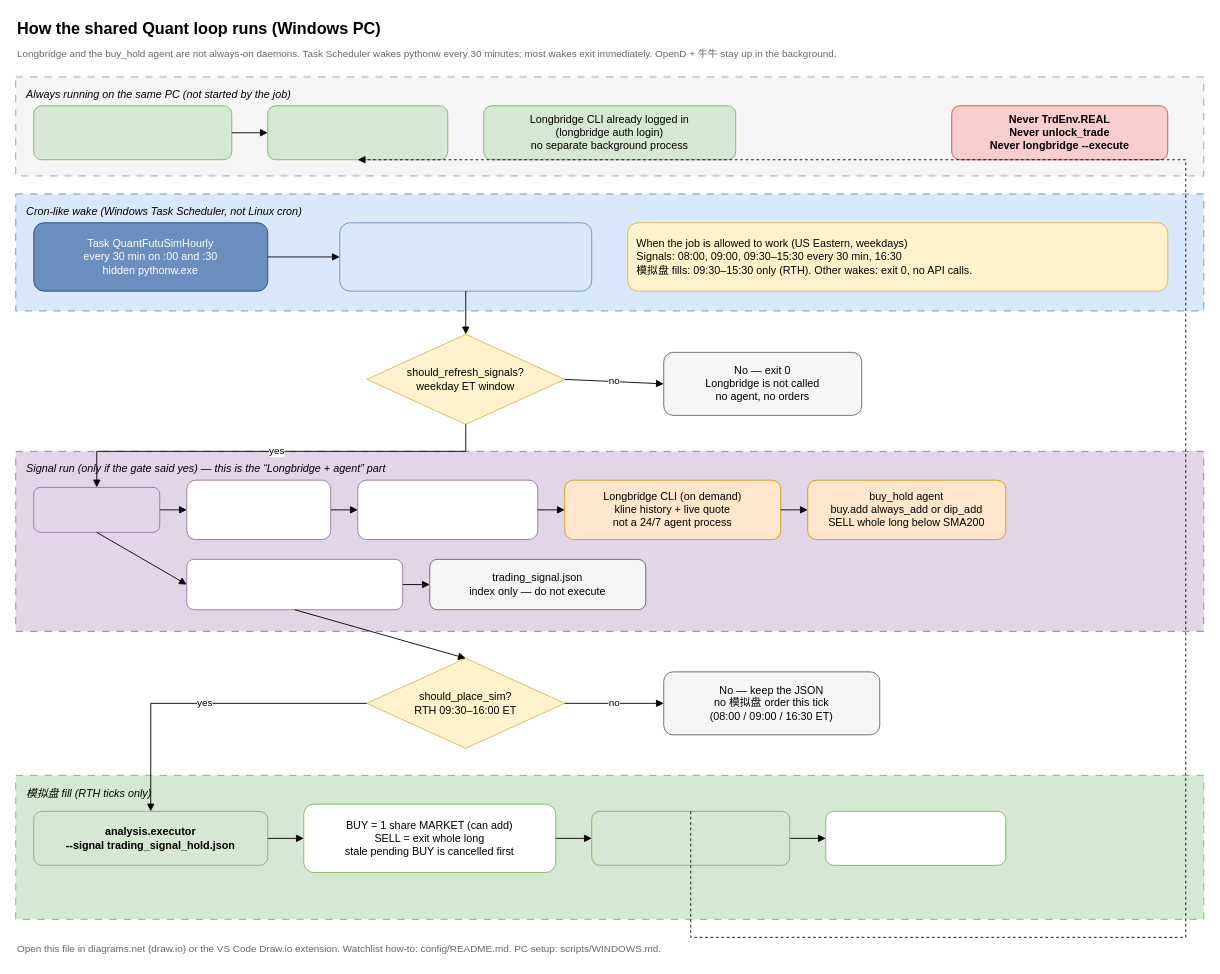
This 1220x974 diagram has some shape labels left out. Each missing label, with the centre of its shape:
analysis.loop: the point at 96,509
analysis/output/ execution_log_hold.json: the point at 915,837
config/books.json book id = hold: the point at 258,509
config/watchlist.json symbols, SMA200, qty 1 execution = futu-sim: the point at 447,509
Futu OpenD 127.0.0.1:11111: the point at 357,132
OpenD place_order TrdEnv.SIMULATE only: the point at 690,837
pythonw -m analysis.hourly working directory = this repo: the point at 465,256
trading_signal_hold.json BUY / SELL / HOLD per ticker: the point at 294,584
富途牛牛 desktop logged into 模拟交易 融資功能設定 = off: the point at 132,132
